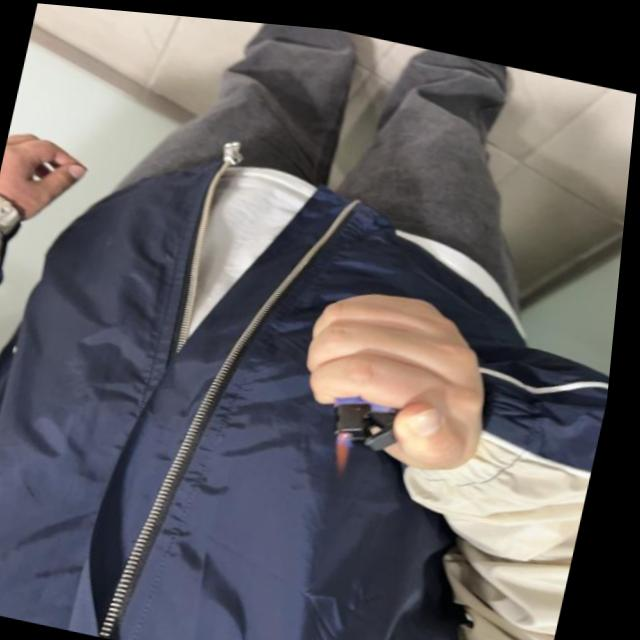Fire: (337, 420, 362, 464)
